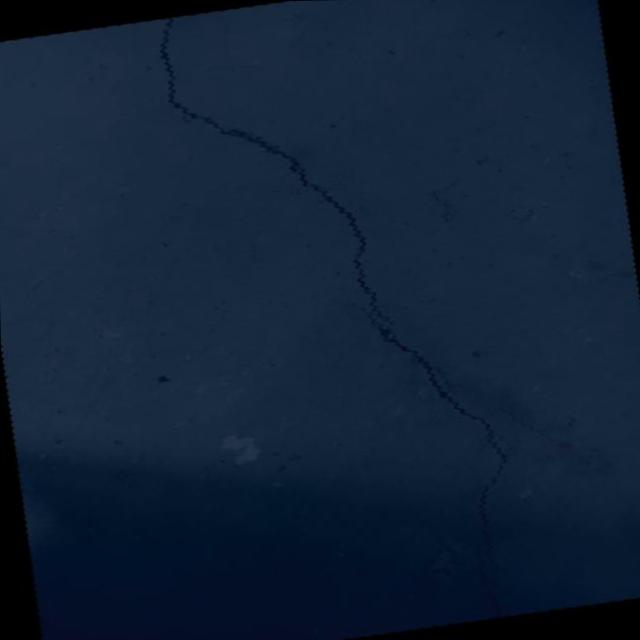crack: (155, 0, 536, 640), (483, 377, 636, 542), (394, 594, 432, 632)
